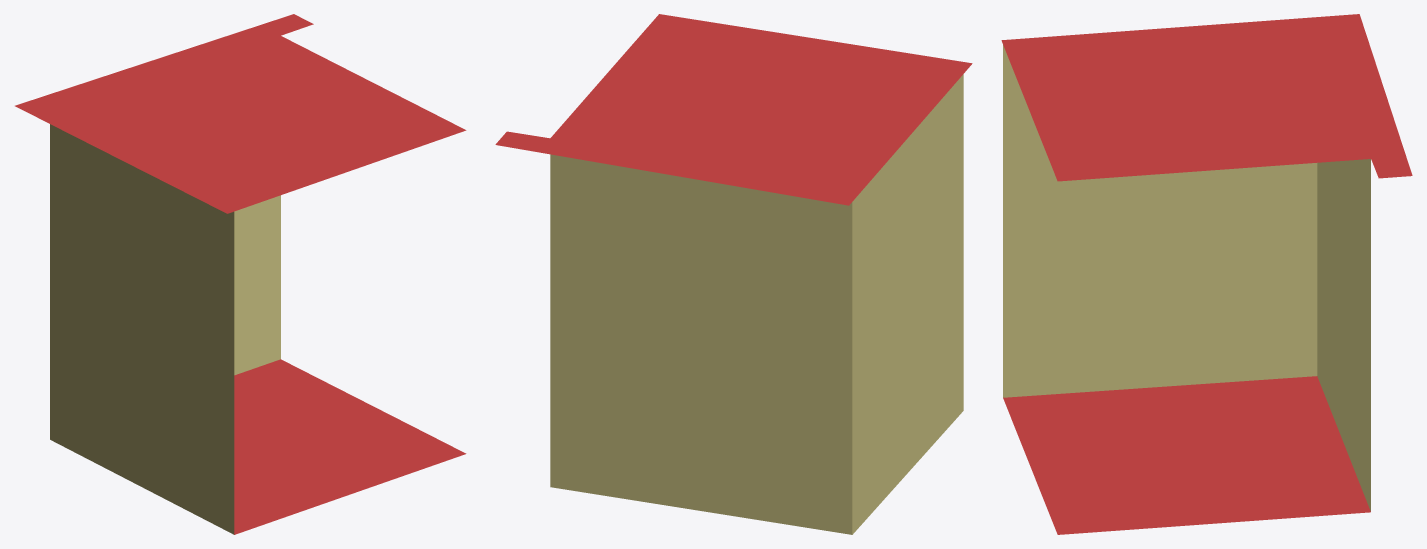
The picture shows the model from 3 angles, left to right: view 1: azimuth 30°, elevation 25°; view 2: azimuth 150°, elevation 25°; view 3: azimuth 270°, elevation 25°; orthographic projection. The views are drawn at different scales.
Bounding box in the file's own units: 5.9 × 6.12 × 5.81.
